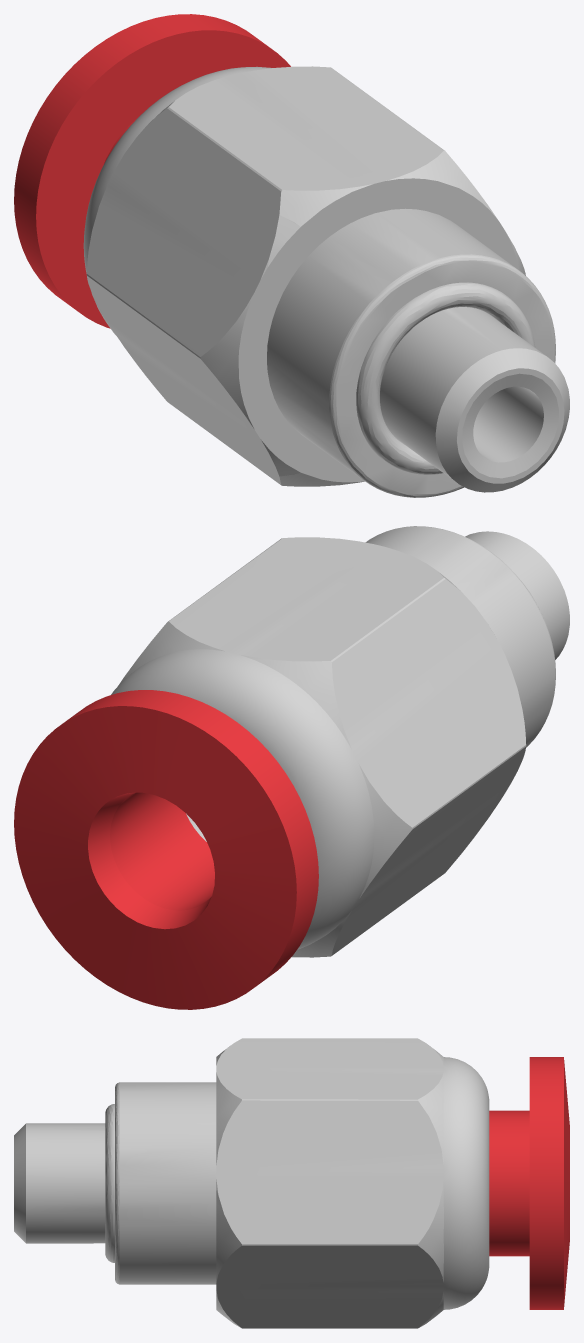
Rendered from Straight_Pneumatic_Fitting.glb.
3 views of the same model, one above another, from view 1: azimuth 30°, elevation 25°; view 2: azimuth 150°, elevation 25°; view 3: azimuth 270°, elevation 25° (orthographic). The views are drawn at different scales.
Parts seen in each view (by area): view 1: Straight Pneumatic Fitting; view 2: Straight Pneumatic Fitting; view 3: Straight Pneumatic Fitting.
Part boxes in pixels (<box>): Straight Pneumatic Fitting: <box>14,14,569,497</box>; Straight Pneumatic Fitting: <box>14,526,569,1009</box>; Straight Pneumatic Fitting: <box>14,1038,569,1328</box>.
Size of the model in its own units: 0.4533 by 0.3937 by 0.8658.
